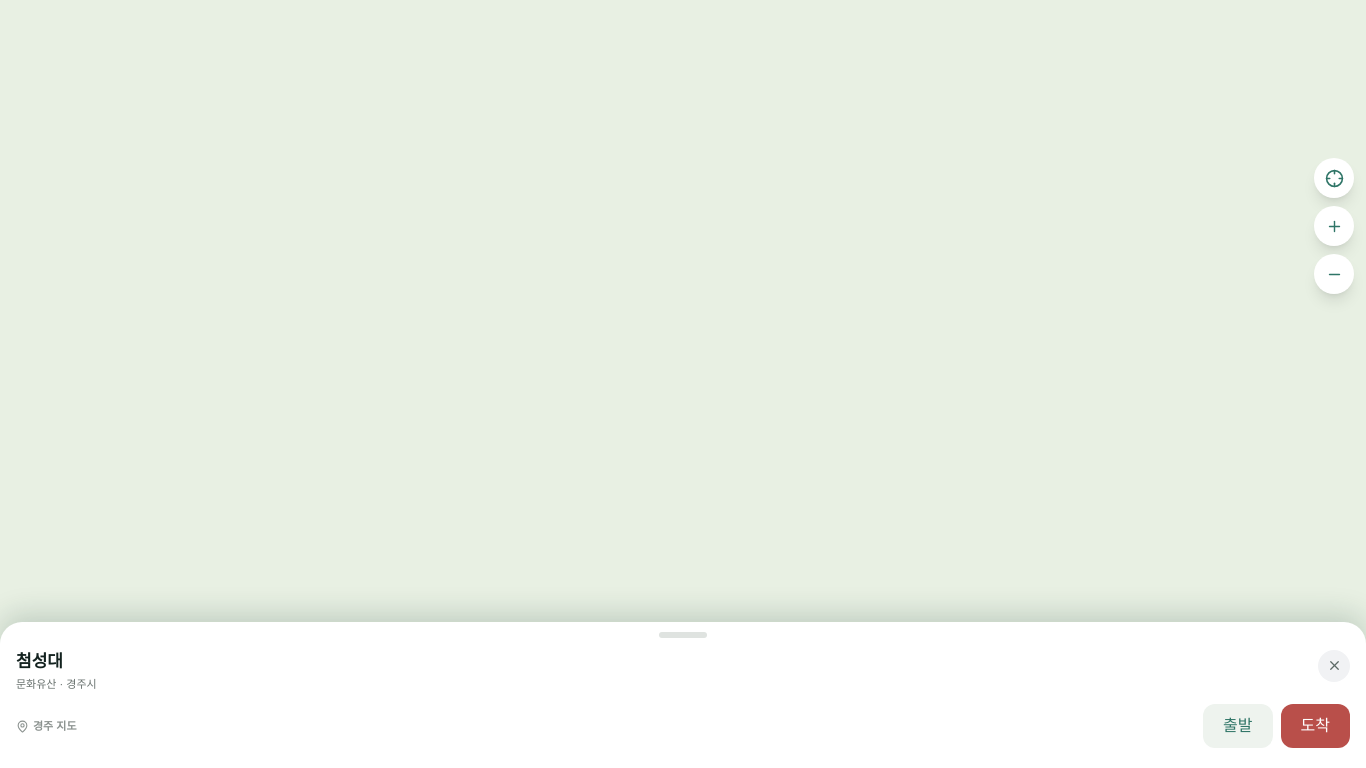
it: KakaoMapExplorer route state › does not start GPS after consent persistence completes for a cancelled selection
Click the button with aria-label "출발지 선택".
click(1238, 726)  # box top-left (1203, 704), bottom-right (1273, 748)
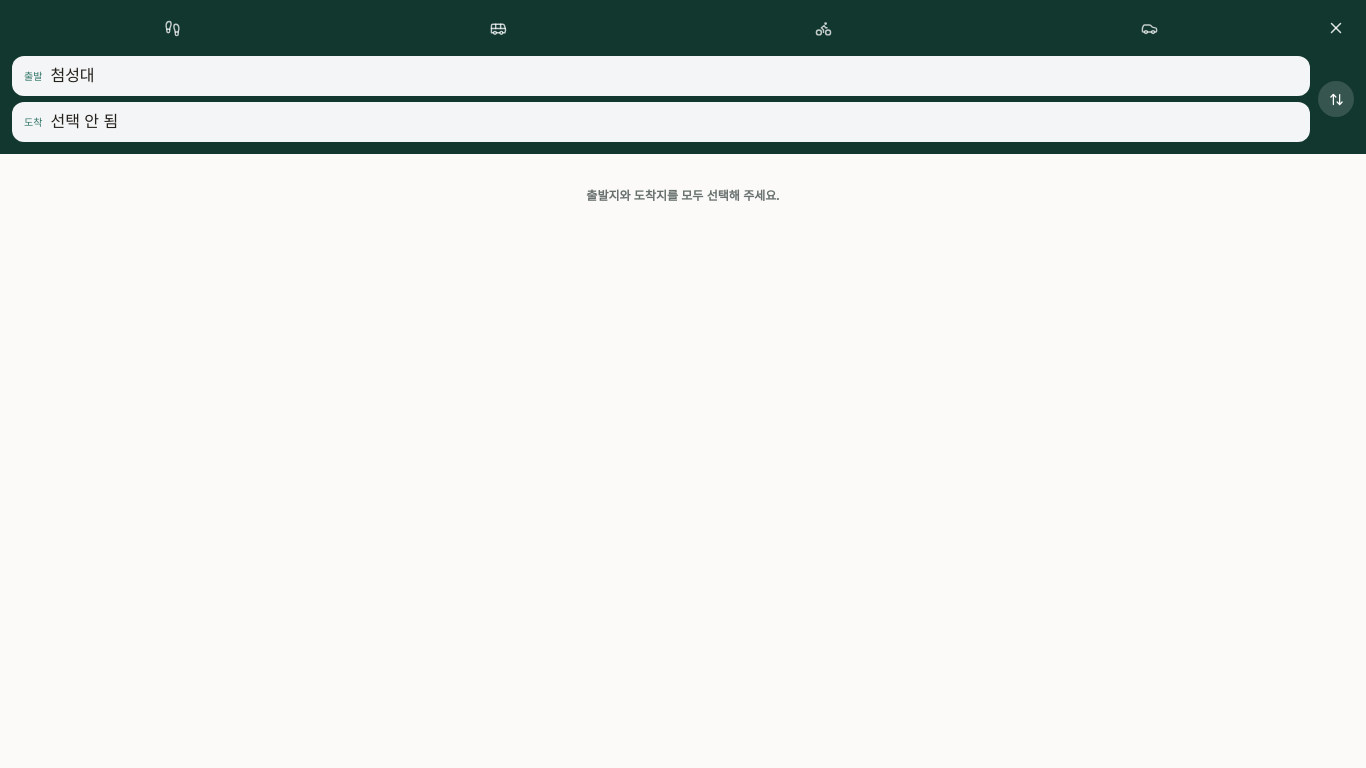
Click the button with aria-label "도착지 선택".
click(84, 122)  # box top-left (12, 102), bottom-right (1310, 142)
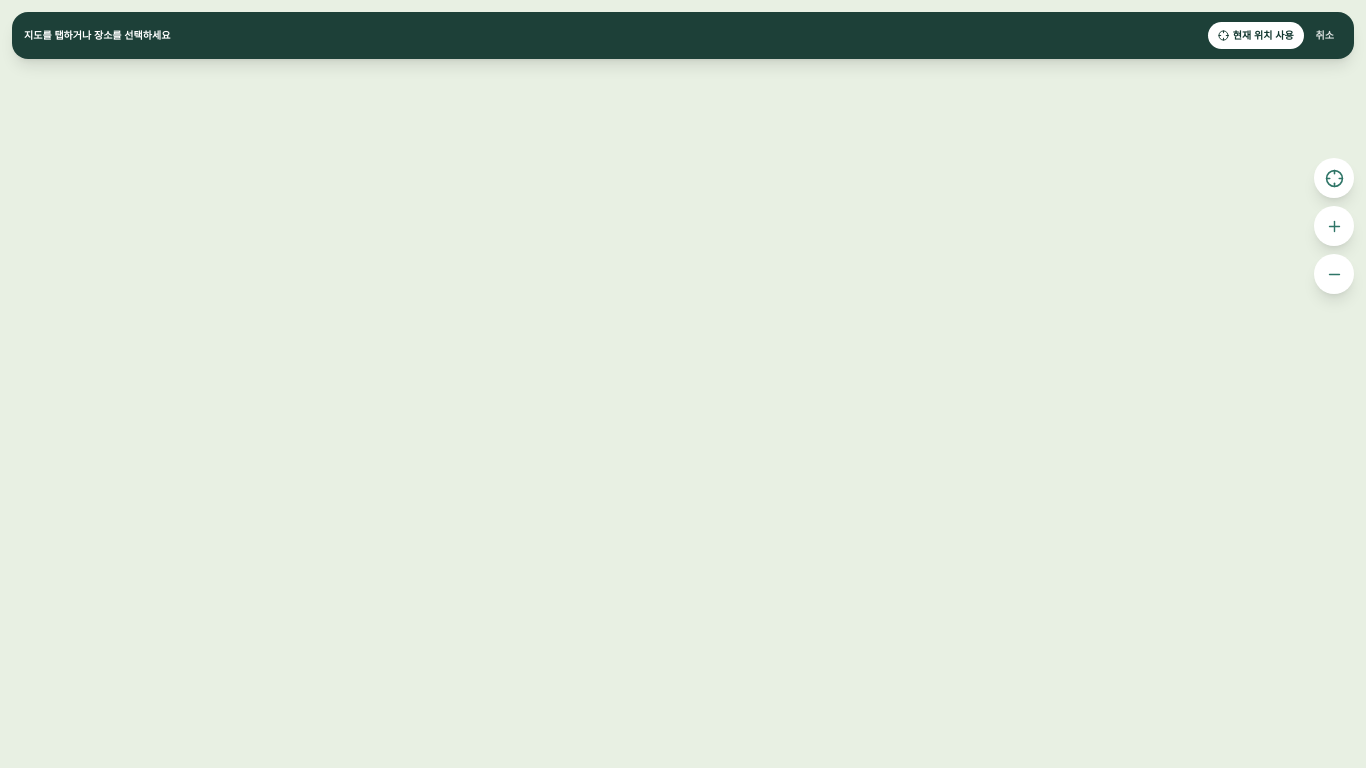
Click the button "현재 위치 사용".
click(1256, 36)  # box top-left (1208, 22), bottom-right (1304, 49)
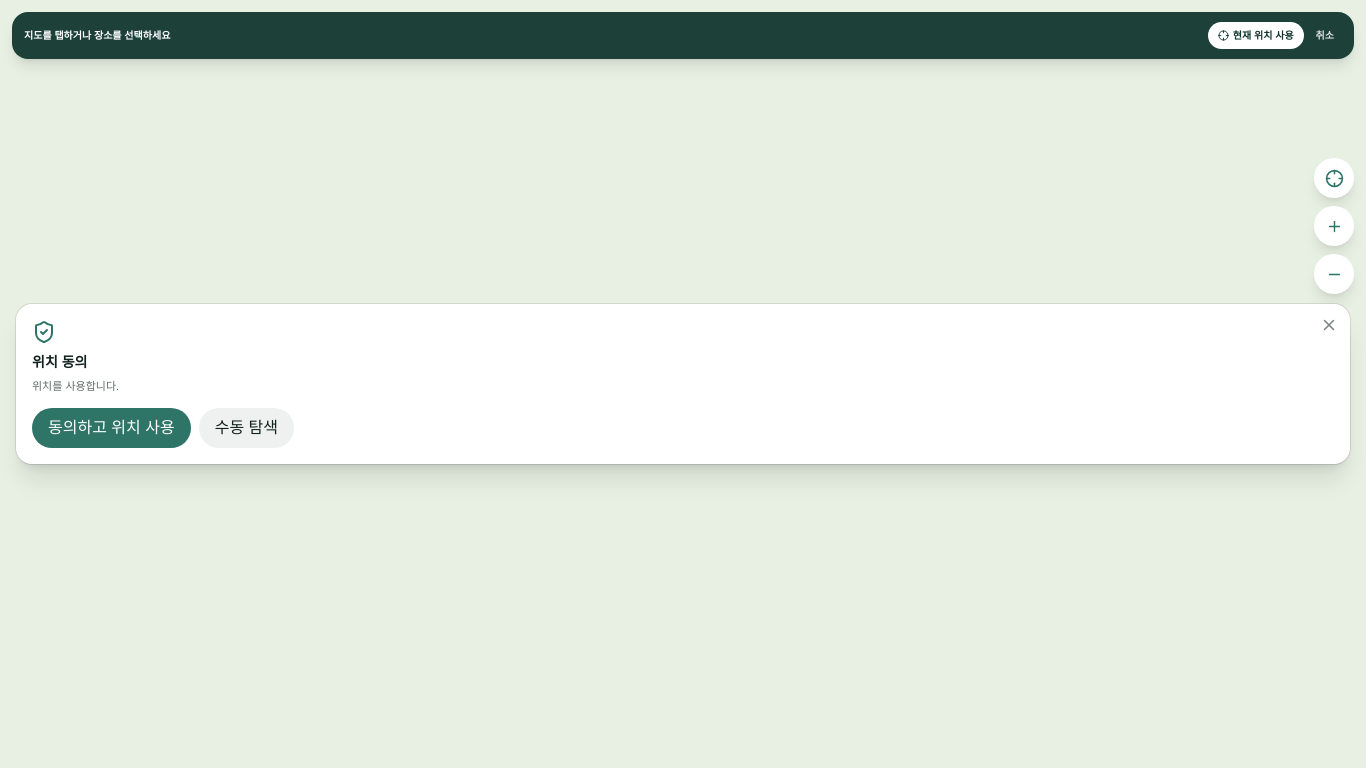
Click the button "동의하고 위치 사용".
click(111, 428)  # box top-left (32, 408), bottom-right (191, 448)
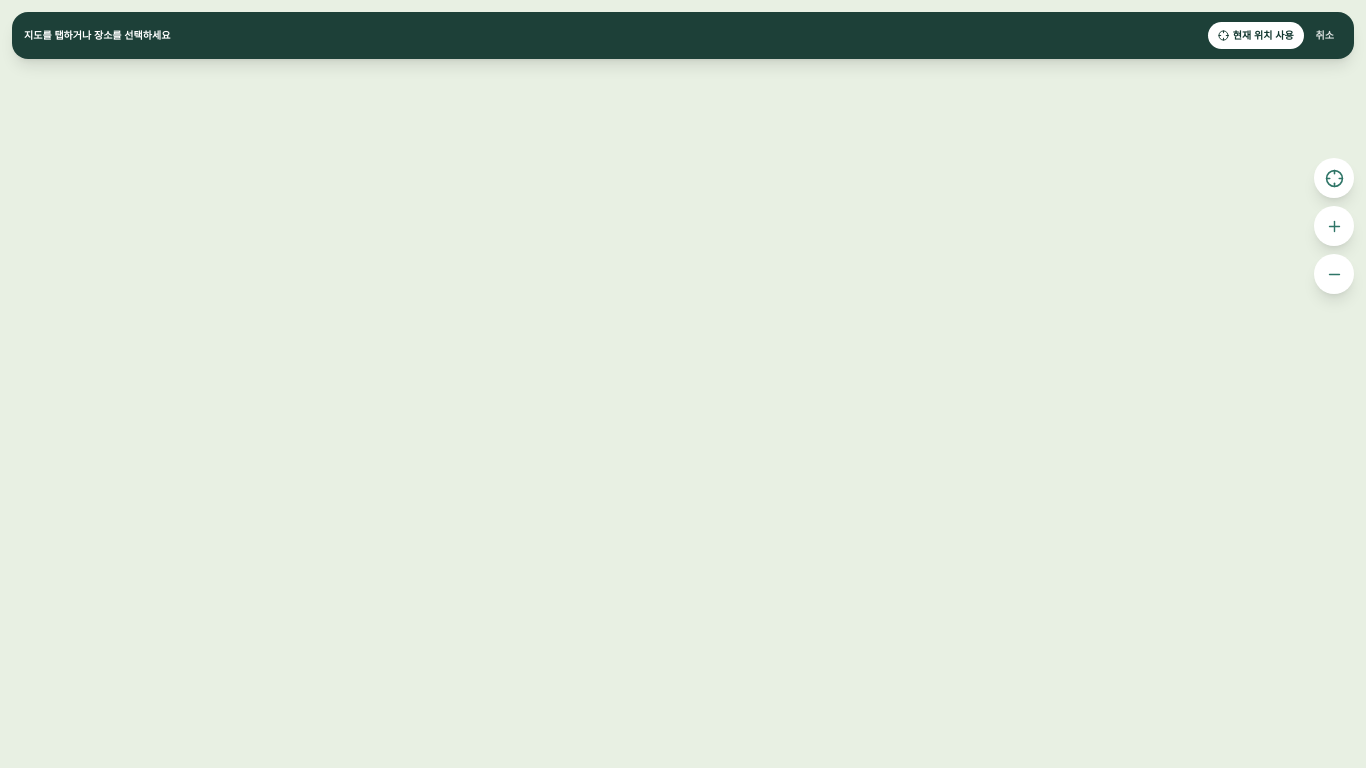
Click the button "취소".
click(1325, 36)  # box top-left (1308, 22), bottom-right (1342, 49)
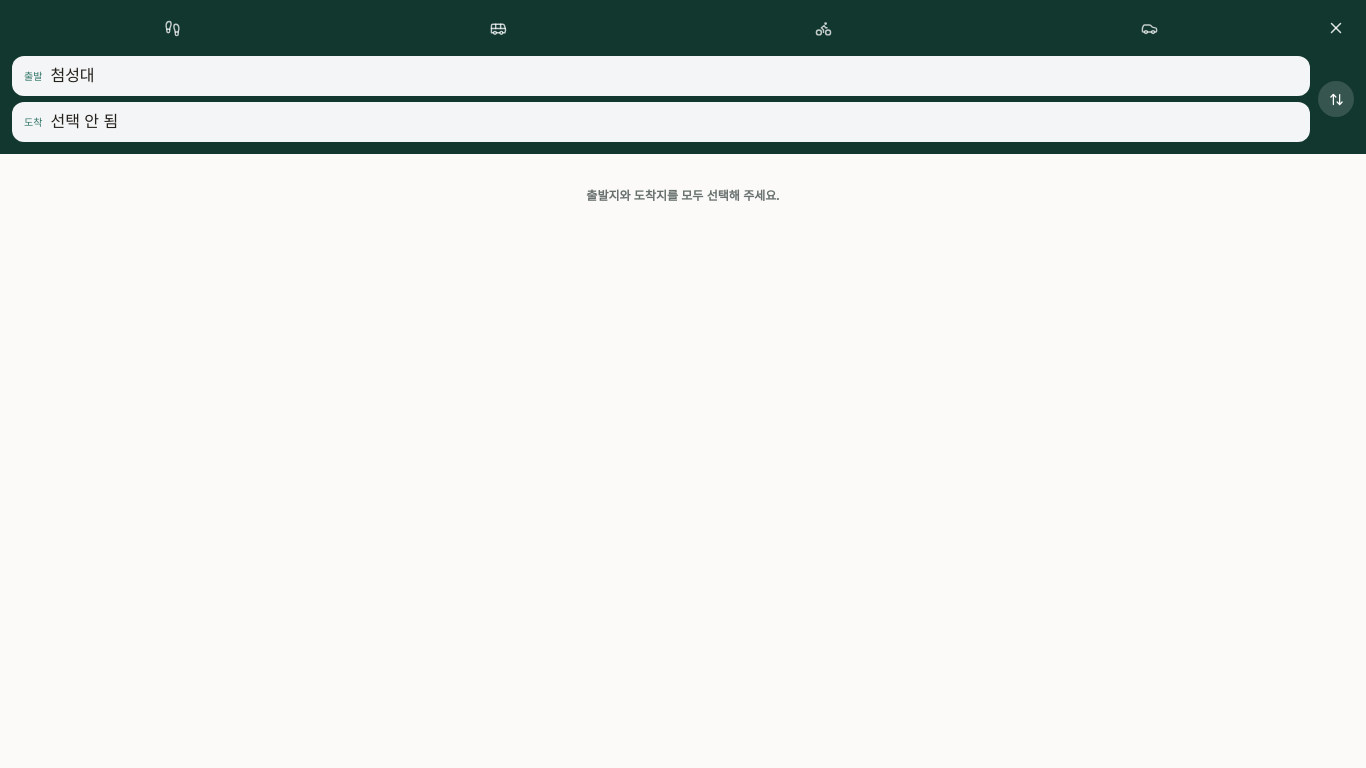
Check: the button with aria-label "도착지 선택" shows "선택 안 됨", box top-left (12, 102), bottom-right (1310, 142)
